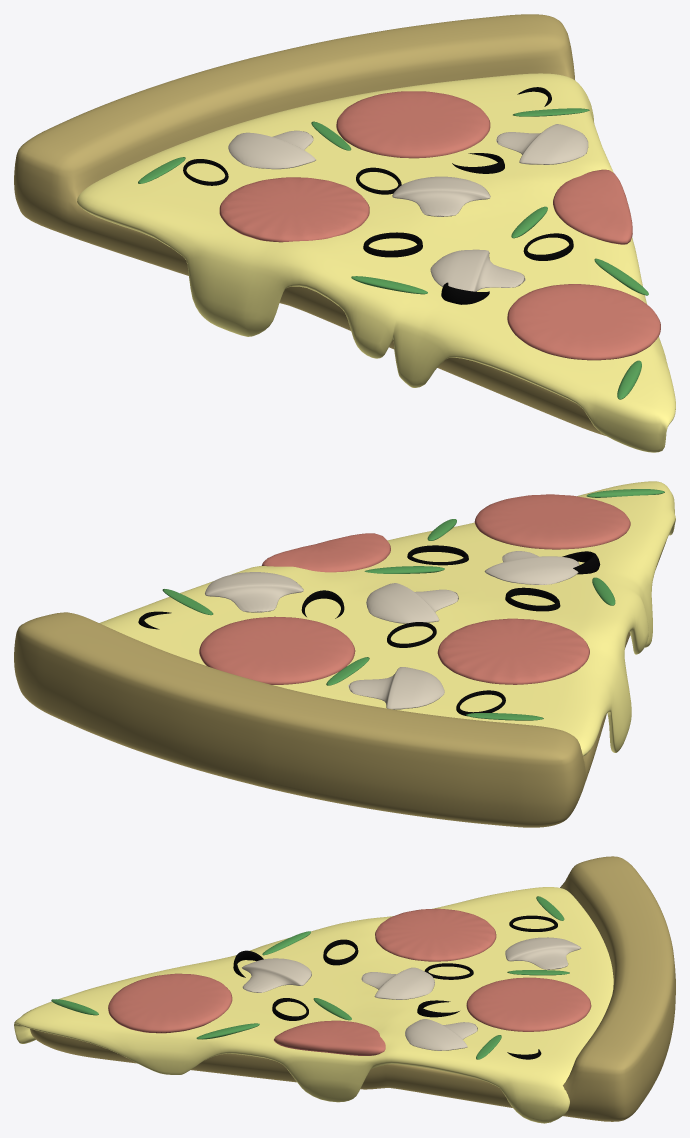
File: PizzaSlice.fbx
The picture shows the model from 3 angles, top to bottom: view 1: azimuth 30°, elevation 25°; view 2: azimuth 150°, elevation 25°; view 3: azimuth 270°, elevation 25°; orthographic projection. The views are drawn at different scales.
Visible parts, largest first — view 1: PizzaSlice; view 2: PizzaSlice; view 3: PizzaSlice.
Part boxes in pixels (x1,y1,x2,y2): PizzaSlice: [14, 14, 675, 452]; PizzaSlice: [14, 481, 675, 827]; PizzaSlice: [14, 856, 675, 1123].
Size of the model in its own units: 0.3822 by 0.0746 by 0.492.
